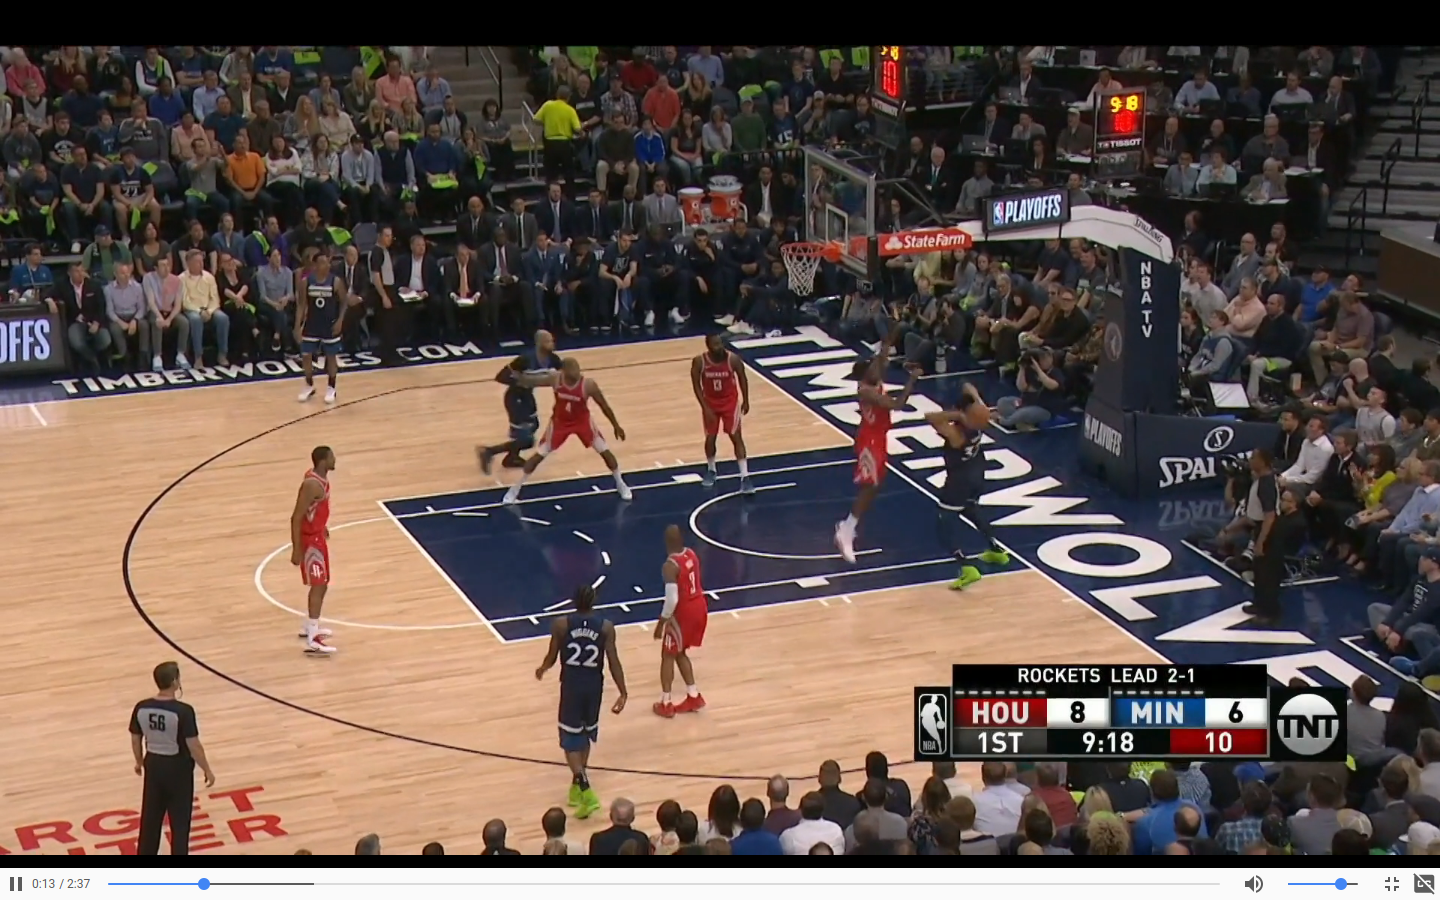basketball: (965, 400, 995, 428)
basketball player: (833, 332, 919, 569), (532, 585, 621, 812), (522, 368, 625, 502), (652, 522, 715, 725), (287, 442, 342, 666), (688, 328, 758, 496), (481, 332, 558, 472), (938, 383, 990, 586), (292, 259, 353, 416)
referee: (122, 659, 215, 854)
